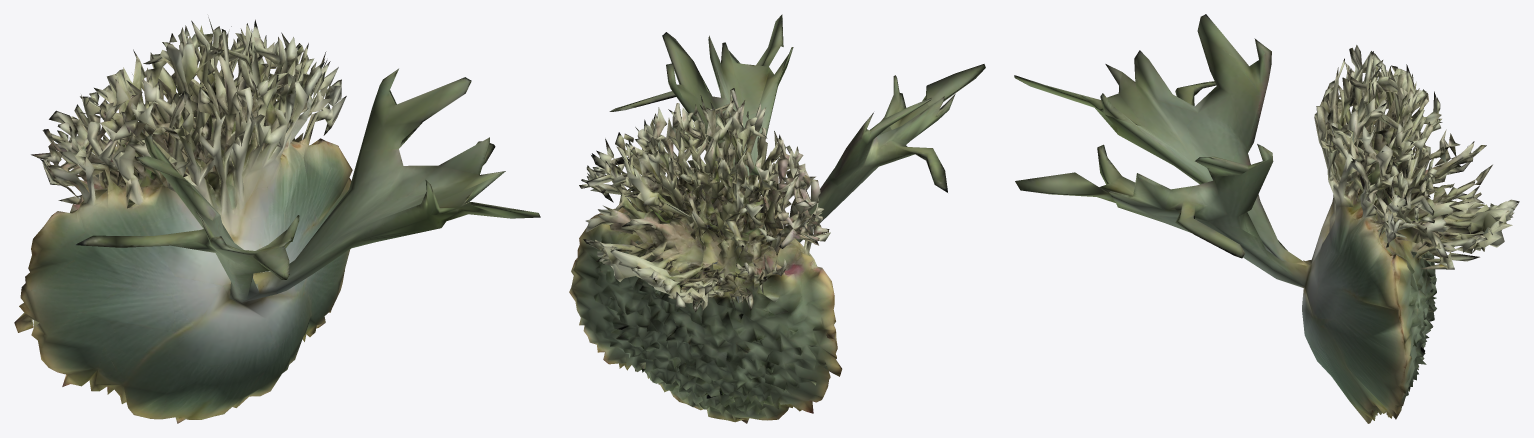
The model's file is Platycerium.glb.
The picture shows the model from 3 angles, left to right: view 1: azimuth 30°, elevation 25°; view 2: azimuth 150°, elevation 25°; view 3: azimuth 270°, elevation 25°; orthographic projection. The views are drawn at different scales.
Bounding box in the file's own units: 1.68 × 1.53 × 2.
1 material, 1 textured.
